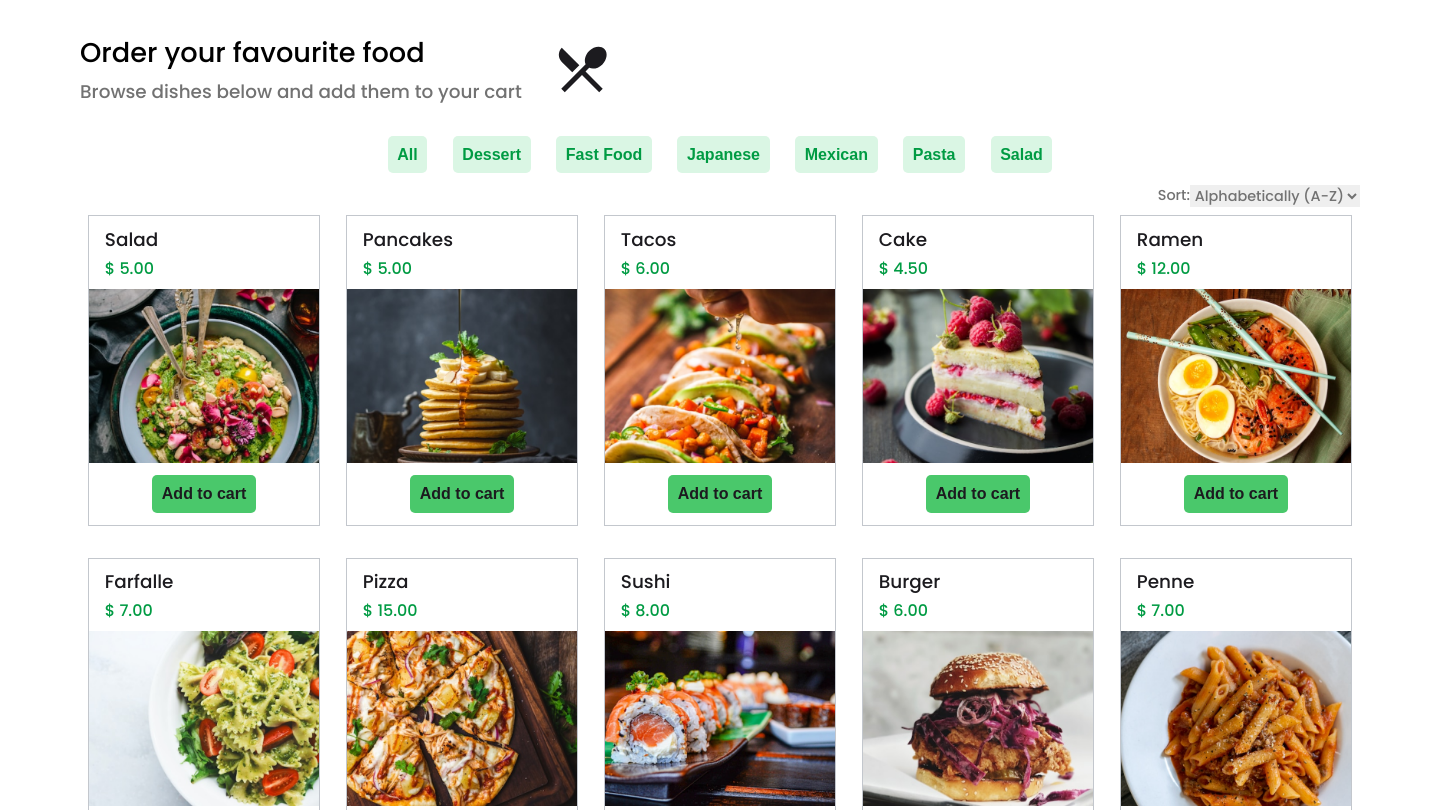
Test: sorting works correctly
Select "Alphabetically (Z-A)" in the dropdown with test id "sort" at (1275, 196), box [1190,186,1360,208]
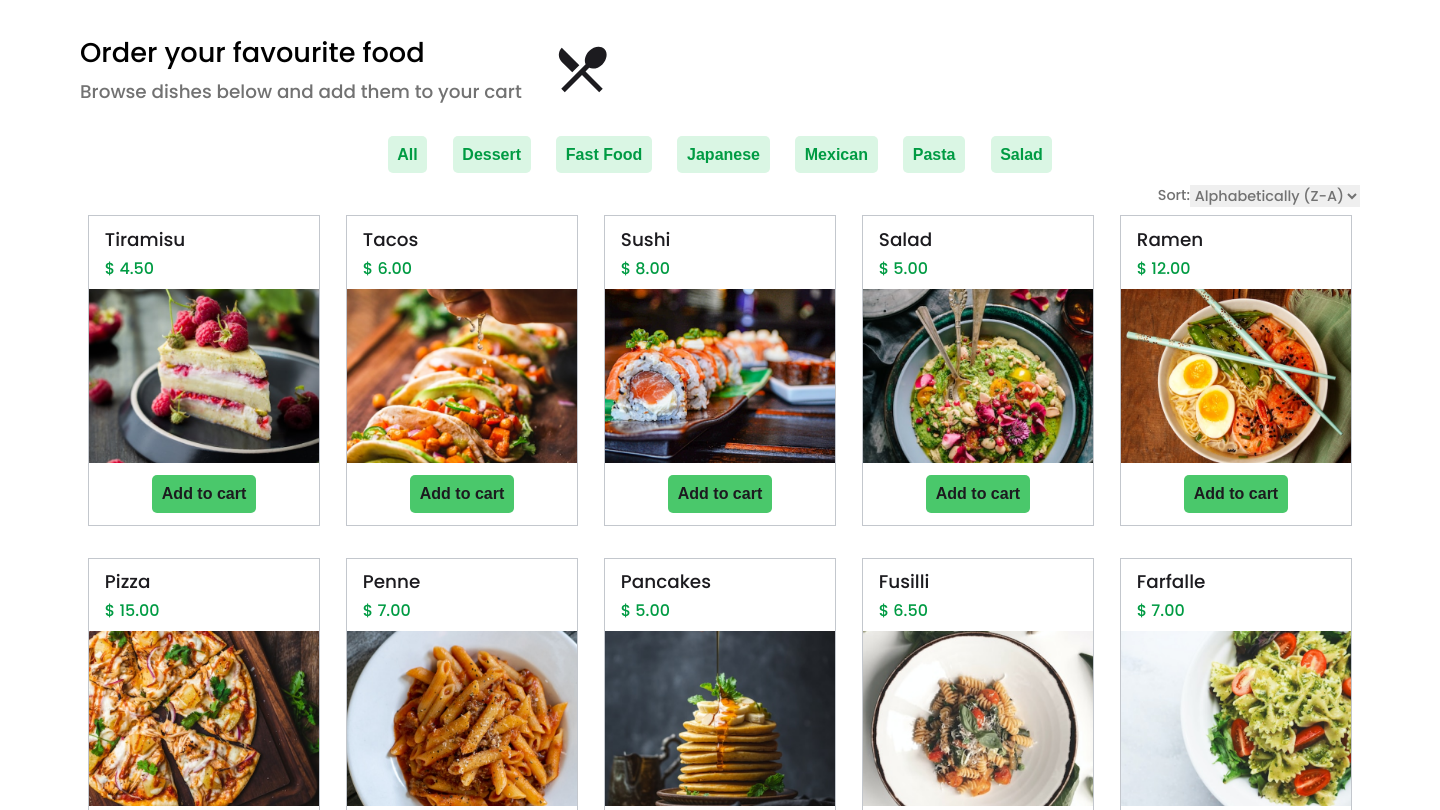
Now the element with test id "food-card" shows "Tiramisu", box [105,227,185,252]
